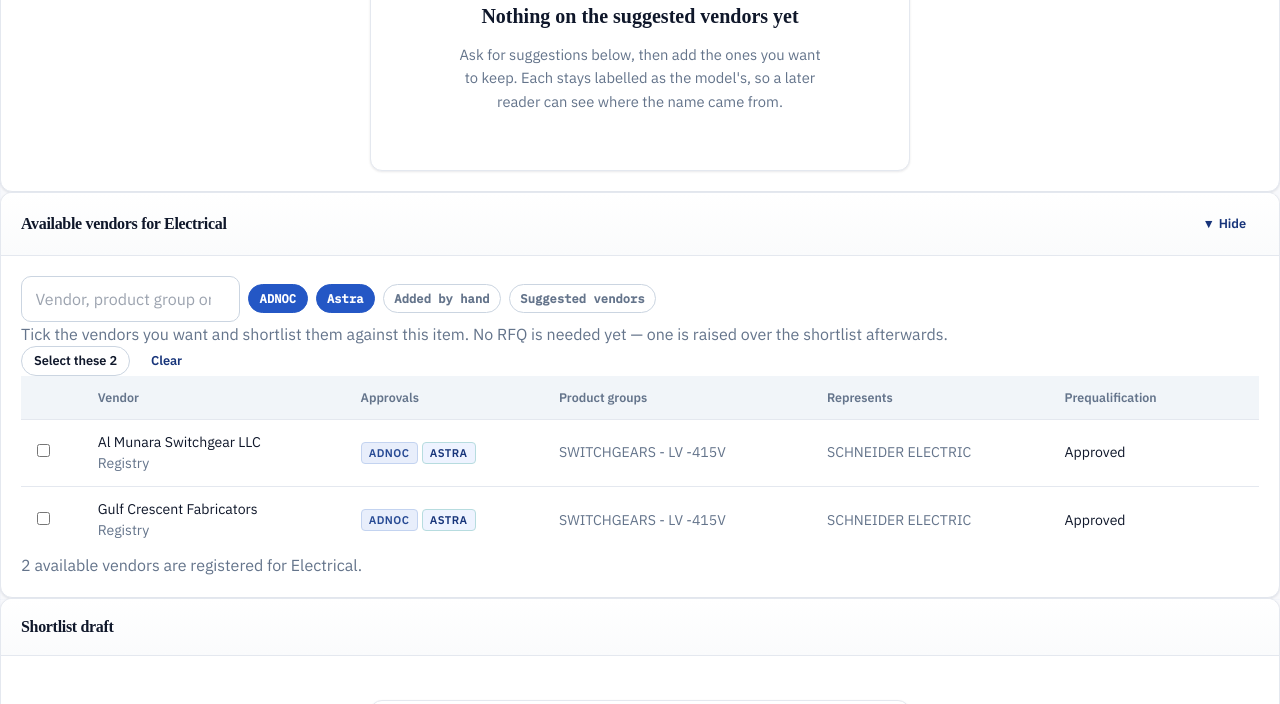
ItemDetail › keeps a selection the search has hidden, and says so
(page scrolled)
Click the button "Select these 2".
click(76, 361)  # box [21,346,130,376]
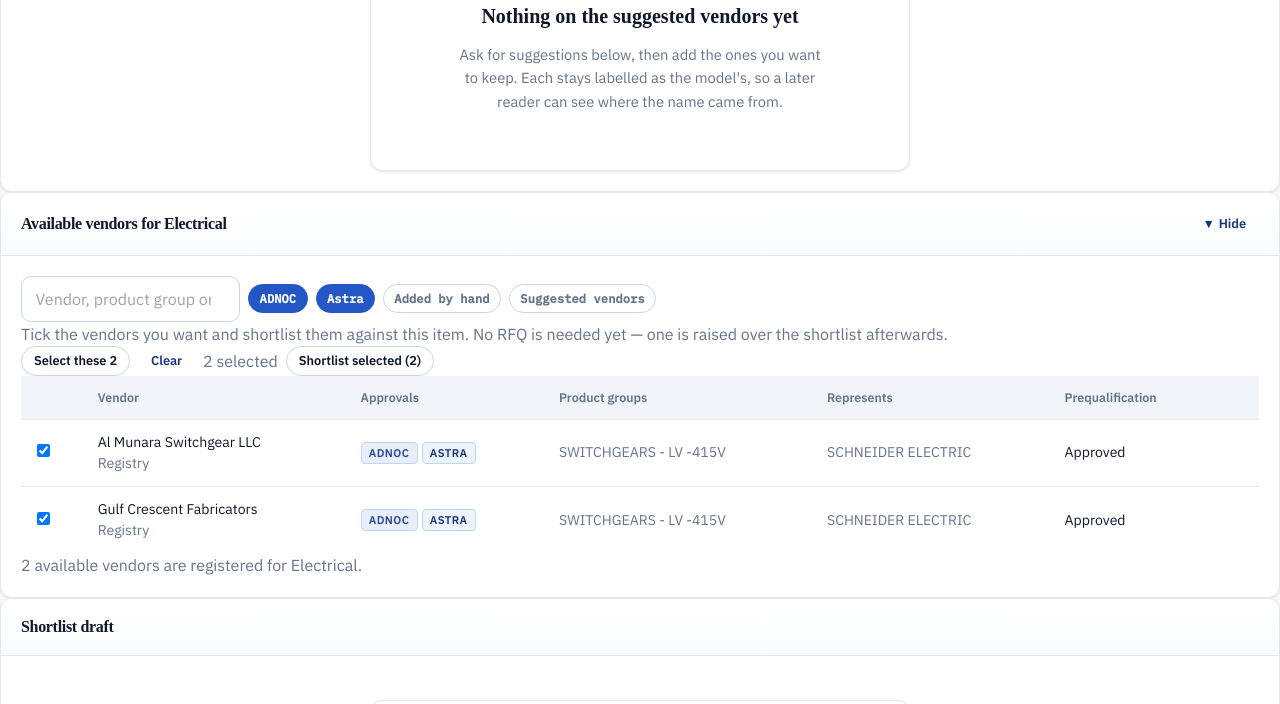
Type "Gulf" into the search field named "Search vendors".
click(131, 299); type("Gulf")  # box [21,276,240,322]
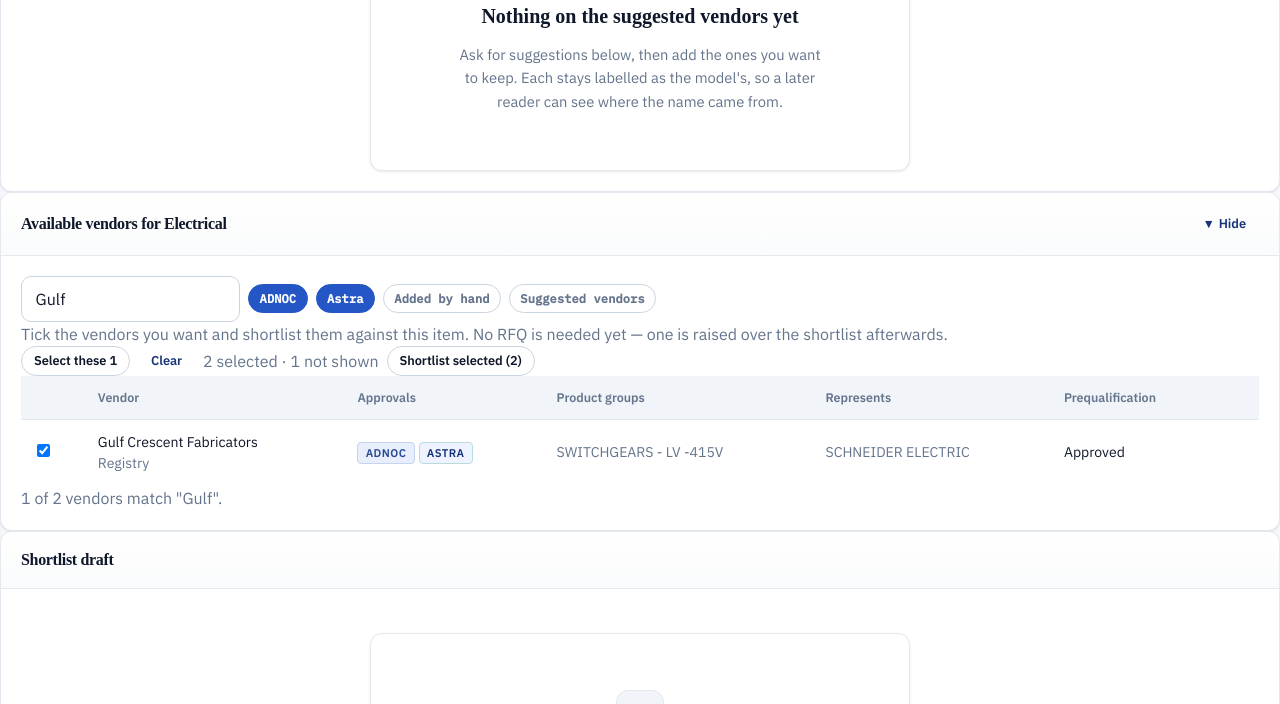
Now the text "2 selected · 1 not shown" is shown, box [203,349,378,373]
